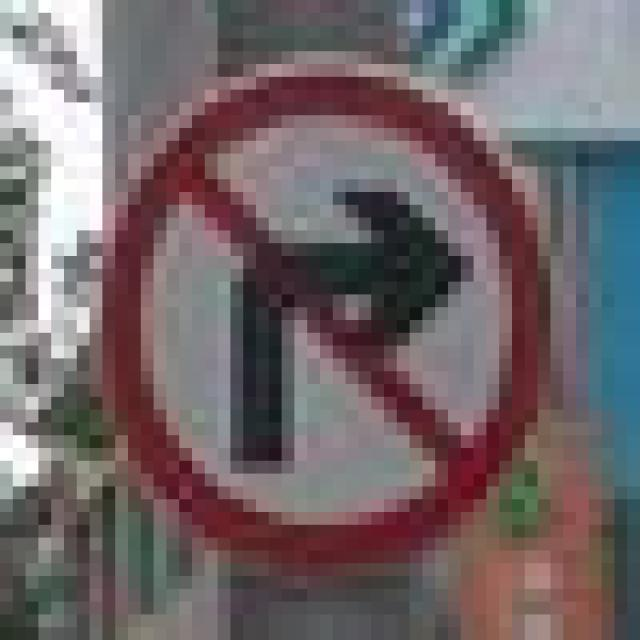right turn prohibited: (69, 45, 569, 577)
